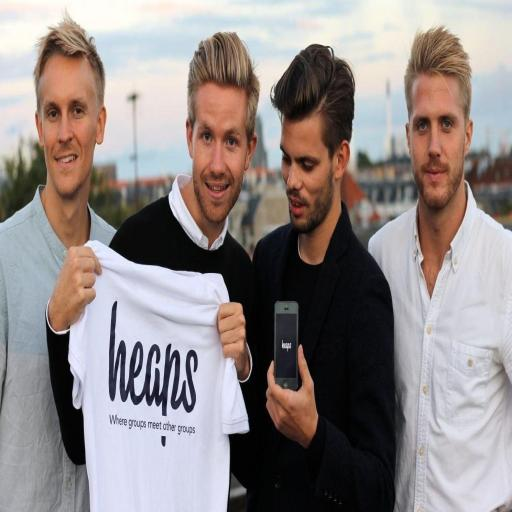person: (247, 45, 395, 510), (369, 27, 511, 511), (0, 15, 114, 511), (111, 33, 259, 402)
